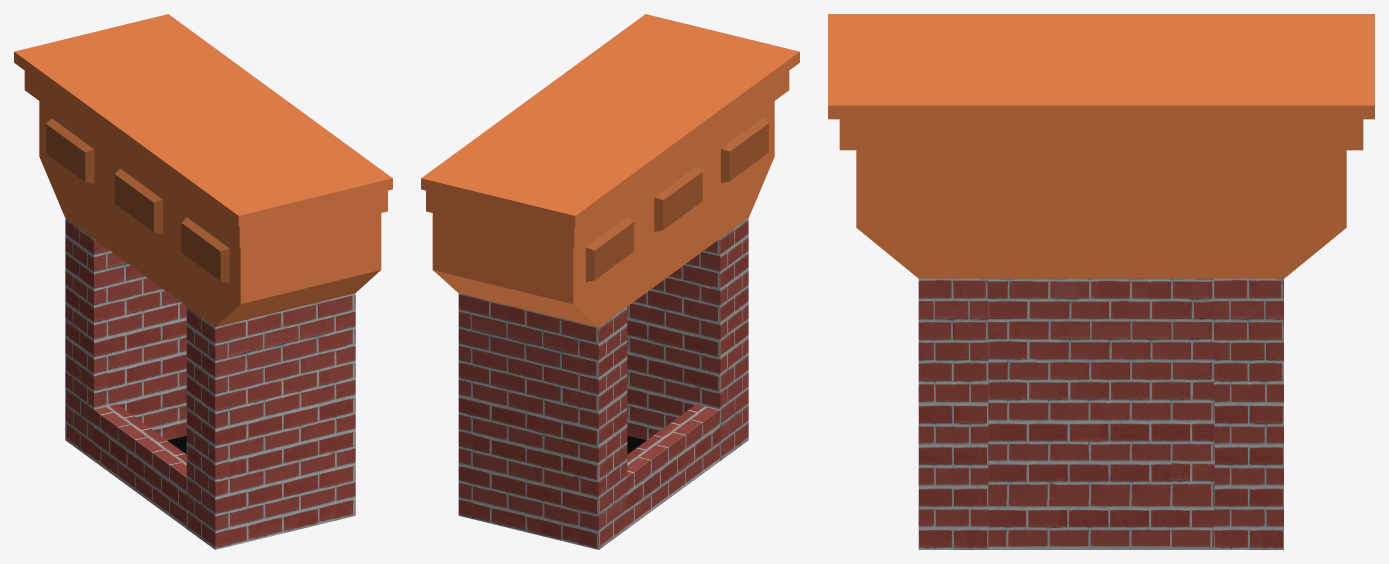
Rendered from chimenea.obj.
3 renders of one model, left to right at view 1: azimuth 30°, elevation 25°; view 2: azimuth 150°, elevation 25°; view 3: azimuth 270°, elevation 25°, orthographic. The views are drawn at different scales.
Parts seen in each view (by area): view 1: chimeneaCompleta:pCube11; view 2: chimeneaCompleta:pCube11; view 3: chimeneaCompleta:pCube11.
Boxes of the visible parts, x1,y1,x2,y2 form: chimeneaCompleta:pCube11: (14,14,392,549); chimeneaCompleta:pCube11: (421,14,799,549); chimeneaCompleta:pCube11: (828,14,1374,549).
Size of the model in its own units: 61.39 by 139 by 155.
Materials: 4 (4 with a texture image).
